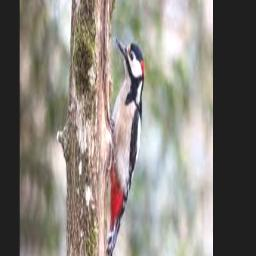Woodpecker: (106, 37, 144, 256)
